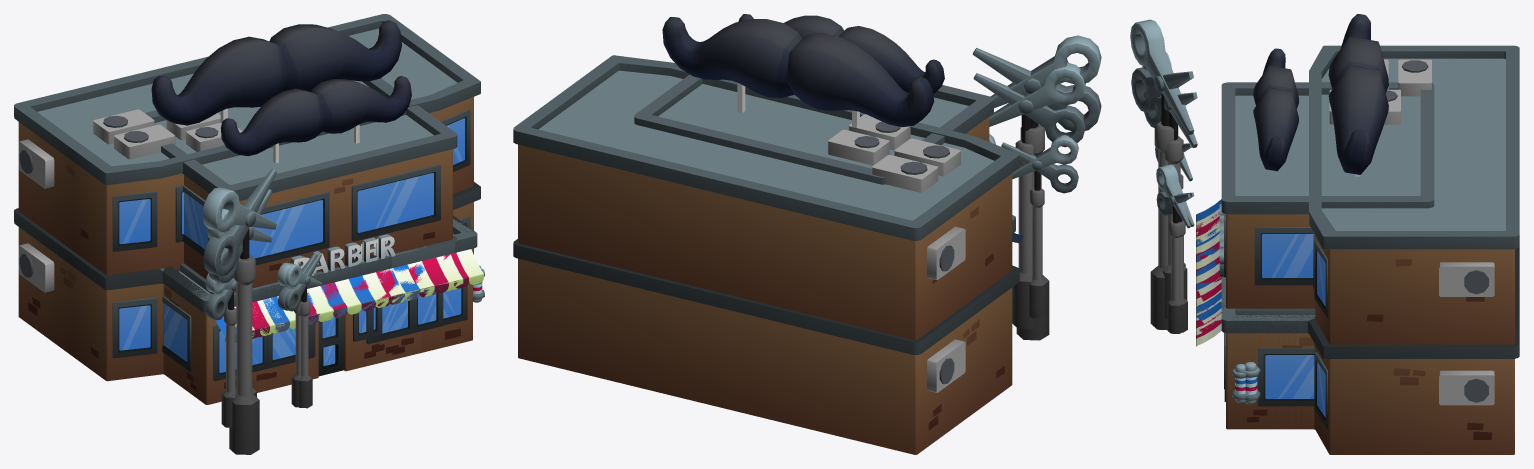
Rendered from Barber.fbx.
3 renders of one model, left to right at view 1: azimuth 30°, elevation 25°; view 2: azimuth 150°, elevation 25°; view 3: azimuth 270°, elevation 25°, orthographic. The views are drawn at different scales.
Visible parts, largest first — view 1: Store Barber Level 5, Store Barber Level 4, Store Barber Level 3, Store Barber Level 2, Store Barber Level 1; view 2: Store Barber Level 5, Store Barber Level 4, Store Barber Level 3; view 3: Store Barber Level 5, Store Barber Level 4, Store Barber Level 3, Store Barber Level 2, Store Barber Level 1.
Boxes of the visible parts, box(x1,y1,x2,y2) form: Store Barber Level 5: box(14, 14, 480, 454); Store Barber Level 4: box(145, 76, 463, 396); Store Barber Level 3: box(160, 218, 484, 427); Store Barber Level 2: box(258, 238, 432, 408); Store Barber Level 1: box(277, 242, 401, 407); Store Barber Level 5: box(513, 17, 1101, 454); Store Barber Level 4: box(634, 14, 1085, 329); Store Barber Level 3: box(1001, 135, 1078, 318); Store Barber Level 5: box(1130, 14, 1519, 454); Store Barber Level 4: box(1142, 48, 1434, 389); Store Barber Level 3: box(1155, 143, 1315, 429); Store Barber Level 2: box(1156, 166, 1225, 333); Store Barber Level 1: box(1162, 164, 1225, 332).
Size of the model in its own units: 1923 by 1495 by 1599.
